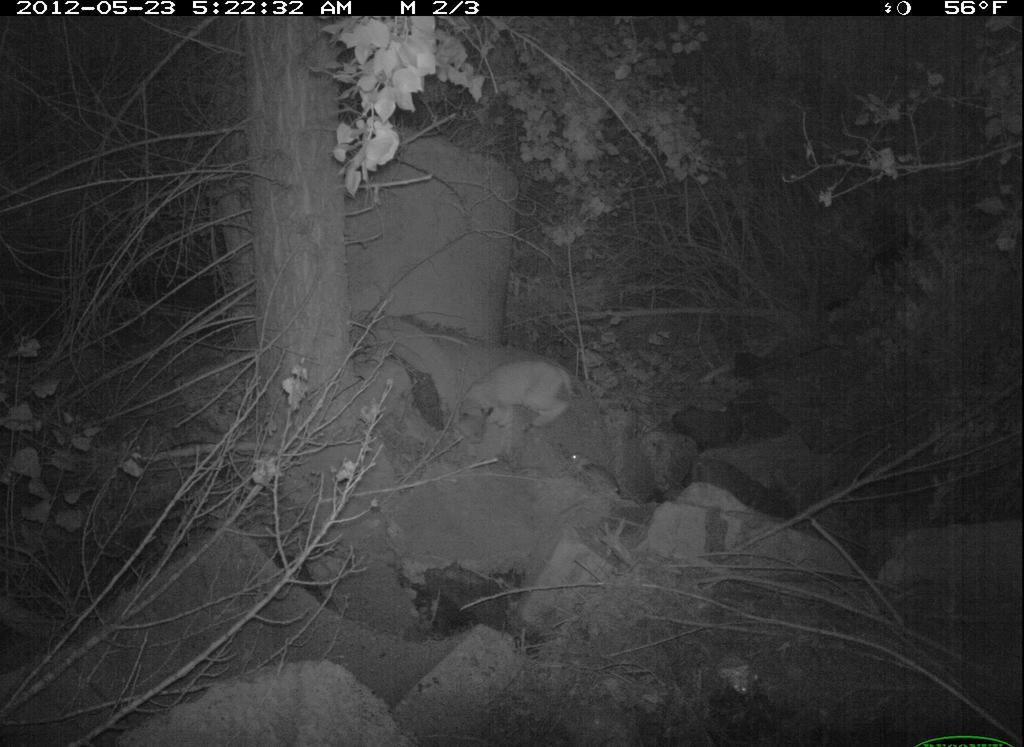bobcat: (452, 361, 585, 445)
